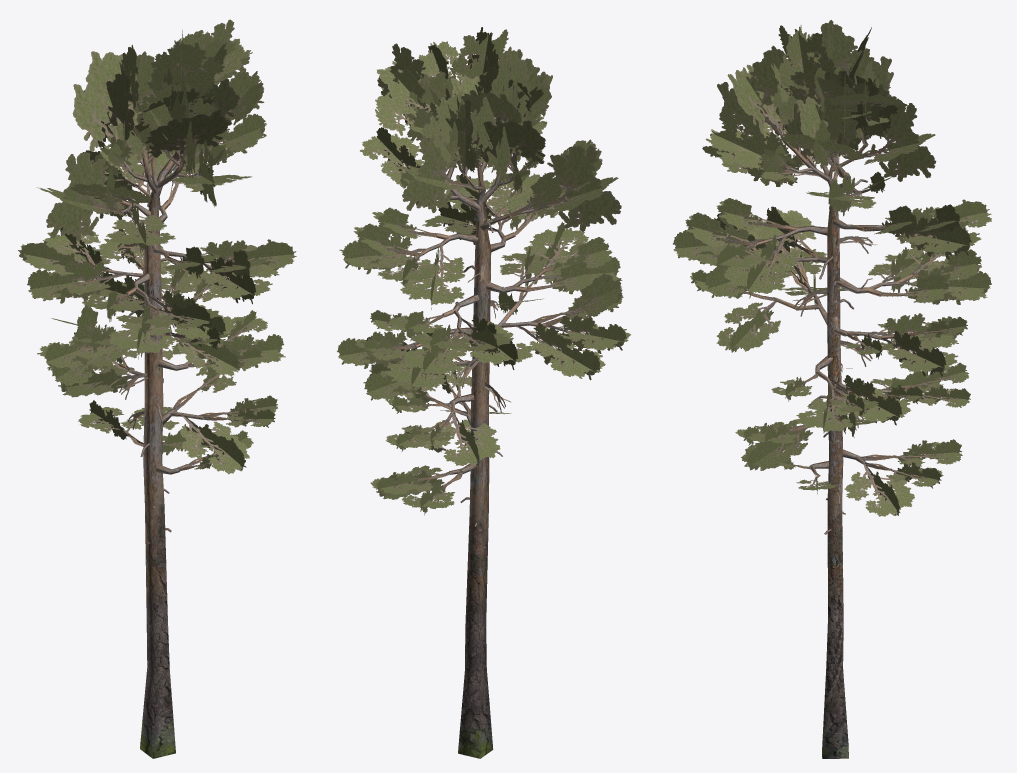
File: PinusSylvestris.glb
3 renders of one model, left to right at view 1: azimuth 30°, elevation 25°; view 2: azimuth 150°, elevation 25°; view 3: azimuth 270°, elevation 25°, orthographic. The views are drawn at different scales.
Visible parts, largest first — view 1: Scots_Pine__Realistic_LOD3; view 2: Scots_Pine__Realistic_LOD3; view 3: Scots_Pine__Realistic_LOD3.
Boxes of the visible parts, box(x1,y1,x2,y2) form: Scots_Pine__Realistic_LOD3: box(18, 19, 296, 758); Scots_Pine__Realistic_LOD3: box(337, 27, 631, 758); Scots_Pine__Realistic_LOD3: box(673, 20, 991, 758).
Bounding box in the file's own units: 10.31 × 27.37 × 11.32.
1 material, 1 textured.
